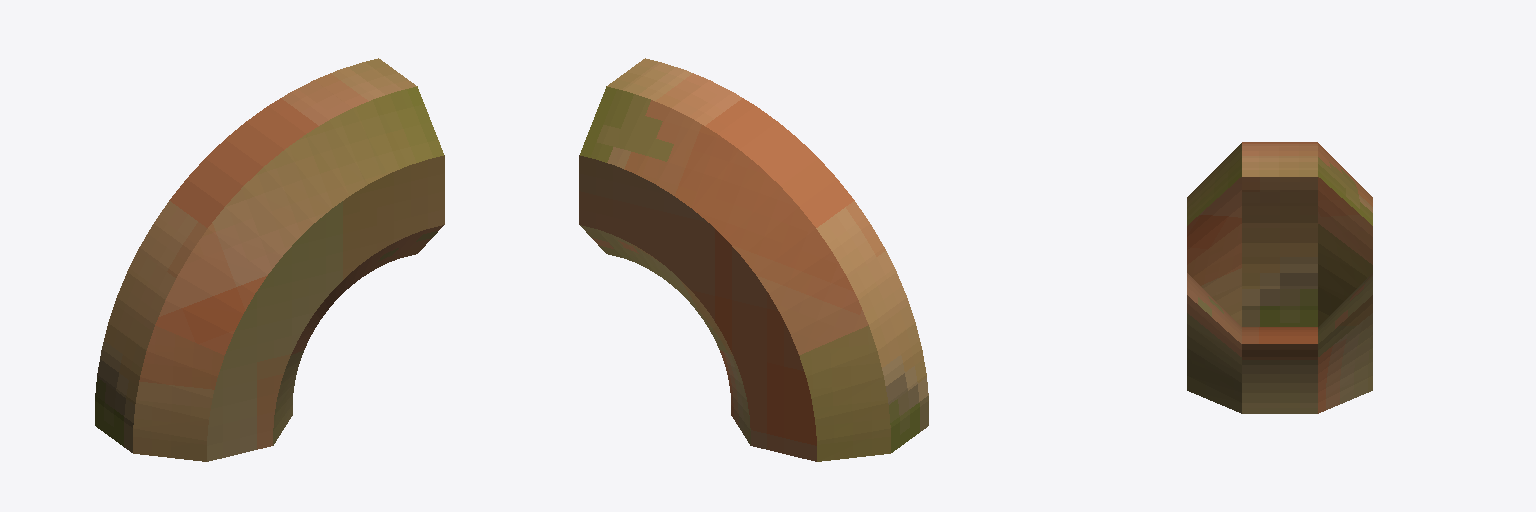
3 views of the same model, side by side, from view 1: azimuth 30°, elevation 25°; view 2: azimuth 150°, elevation 25°; view 3: azimuth 270°, elevation 25° (orthographic).
Parts seen in each view (by area): view 1: cylinder_selection; view 2: cylinder_selection; view 3: cylinder_selection.
Part boxes in pixels (bbox=[...]): cylinder_selection: bbox=[95, 58, 444, 461]; cylinder_selection: bbox=[579, 58, 928, 461]; cylinder_selection: bbox=[1187, 142, 1372, 413].
Size of the model in its own units: 1.04 by 1.04 by 0.5859.
Materials: 1 (1 with a texture image).